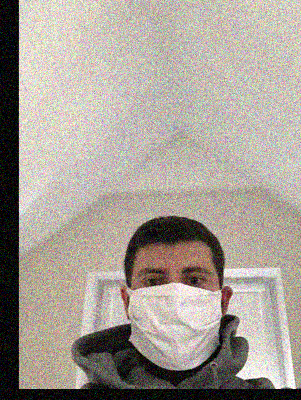with_mask: (125, 256, 221, 372)
